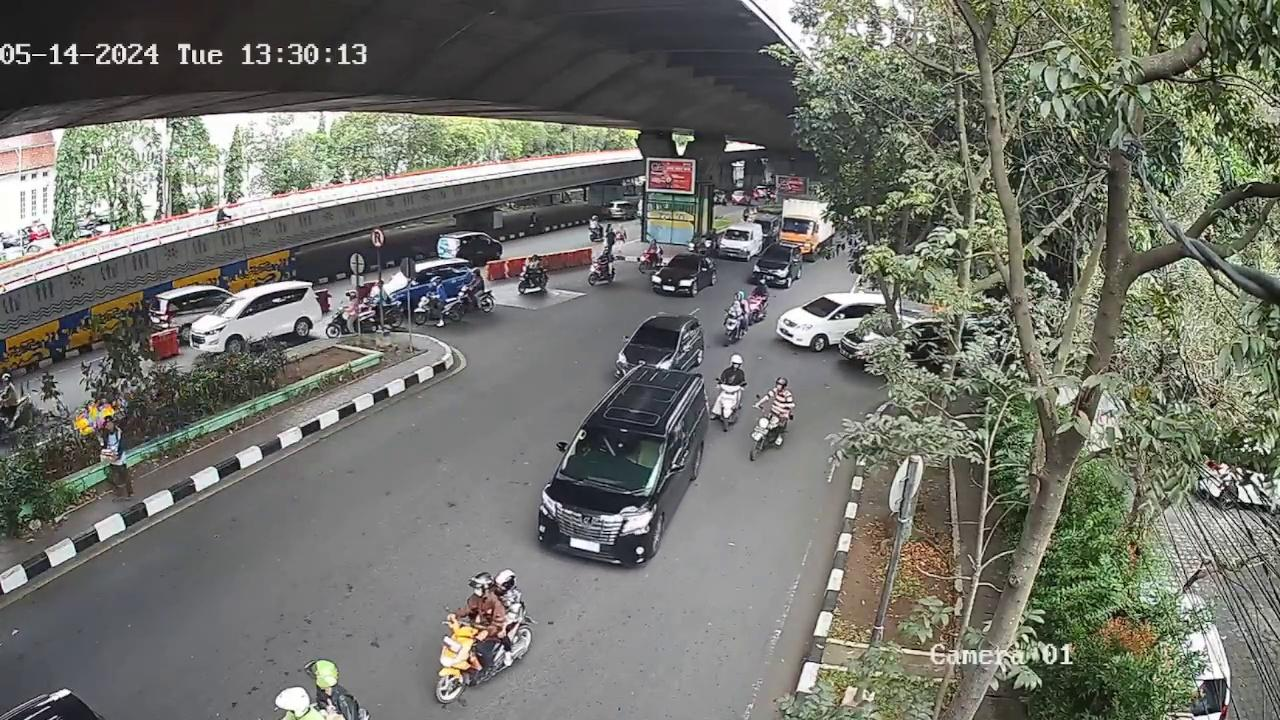pakai: (589, 432, 631, 462)
windshield: (562, 421, 665, 489), (626, 317, 684, 352)
